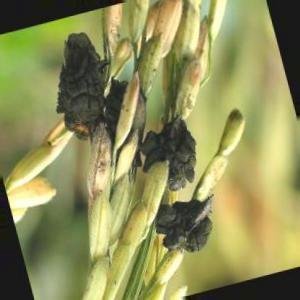Leaf_Scald: (63, 30, 101, 134), (144, 119, 198, 189), (167, 202, 209, 254)
